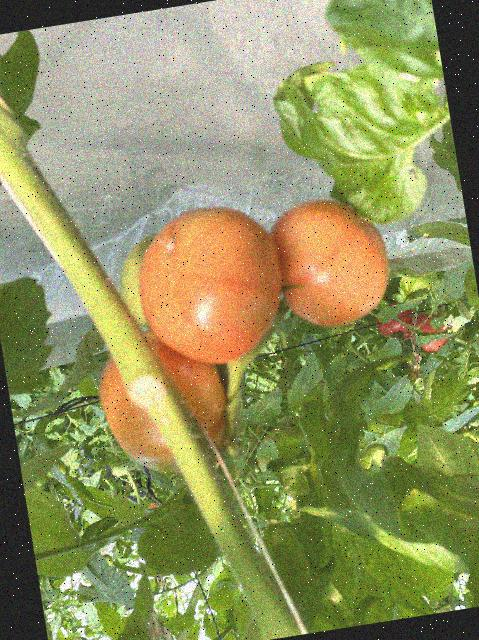b_fully_ripened: (407, 310, 453, 358), (373, 300, 421, 344)
b_green: (112, 232, 175, 330)
b_half_ripened: (128, 196, 296, 375), (90, 321, 236, 481), (267, 190, 398, 335)
